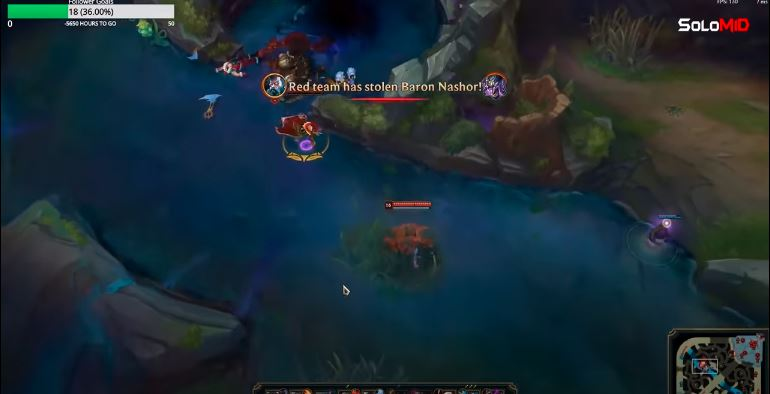bar: (272, 79, 340, 95), (382, 196, 435, 212)
